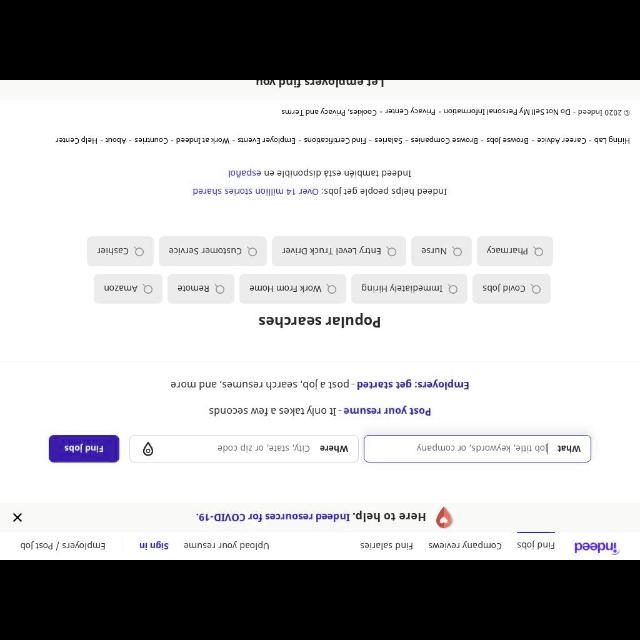button: (273, 238, 405, 266), (352, 274, 468, 304), (159, 236, 267, 266), (240, 274, 346, 302), (473, 274, 551, 302), (478, 237, 552, 266), (94, 274, 162, 304), (168, 273, 234, 303), (87, 237, 153, 266), (412, 237, 472, 266)
icon: (143, 440, 153, 456), (12, 512, 22, 522), (531, 283, 541, 293), (533, 246, 543, 256), (451, 246, 461, 256), (447, 284, 457, 294), (386, 246, 396, 256), (326, 284, 336, 294), (246, 246, 256, 256), (214, 283, 224, 293), (142, 284, 152, 294), (134, 246, 144, 256)
image: (574, 542, 620, 556), (436, 506, 452, 528)
input: (130, 436, 358, 462), (364, 436, 590, 462)
text: (55, 136, 629, 144), (172, 380, 468, 390), (282, 108, 630, 116), (210, 404, 430, 416), (192, 186, 448, 196), (197, 511, 426, 522), (260, 312, 380, 328), (229, 168, 411, 178), (417, 443, 547, 452), (185, 540, 269, 550), (21, 540, 105, 550), (218, 443, 310, 452), (282, 246, 380, 254), (256, 82, 384, 88), (362, 284, 442, 292), (429, 541, 501, 549), (250, 285, 322, 293), (170, 247, 240, 255), (360, 542, 412, 550), (487, 246, 527, 256), (518, 540, 554, 550), (65, 443, 103, 452), (484, 284, 524, 292), (140, 540, 168, 550), (98, 248, 128, 255), (104, 285, 138, 291), (178, 286, 208, 292), (320, 446, 348, 452), (422, 248, 446, 254), (558, 446, 580, 452)
textbutton: (49, 436, 120, 462)
toolbar: (1, 532, 640, 560)
